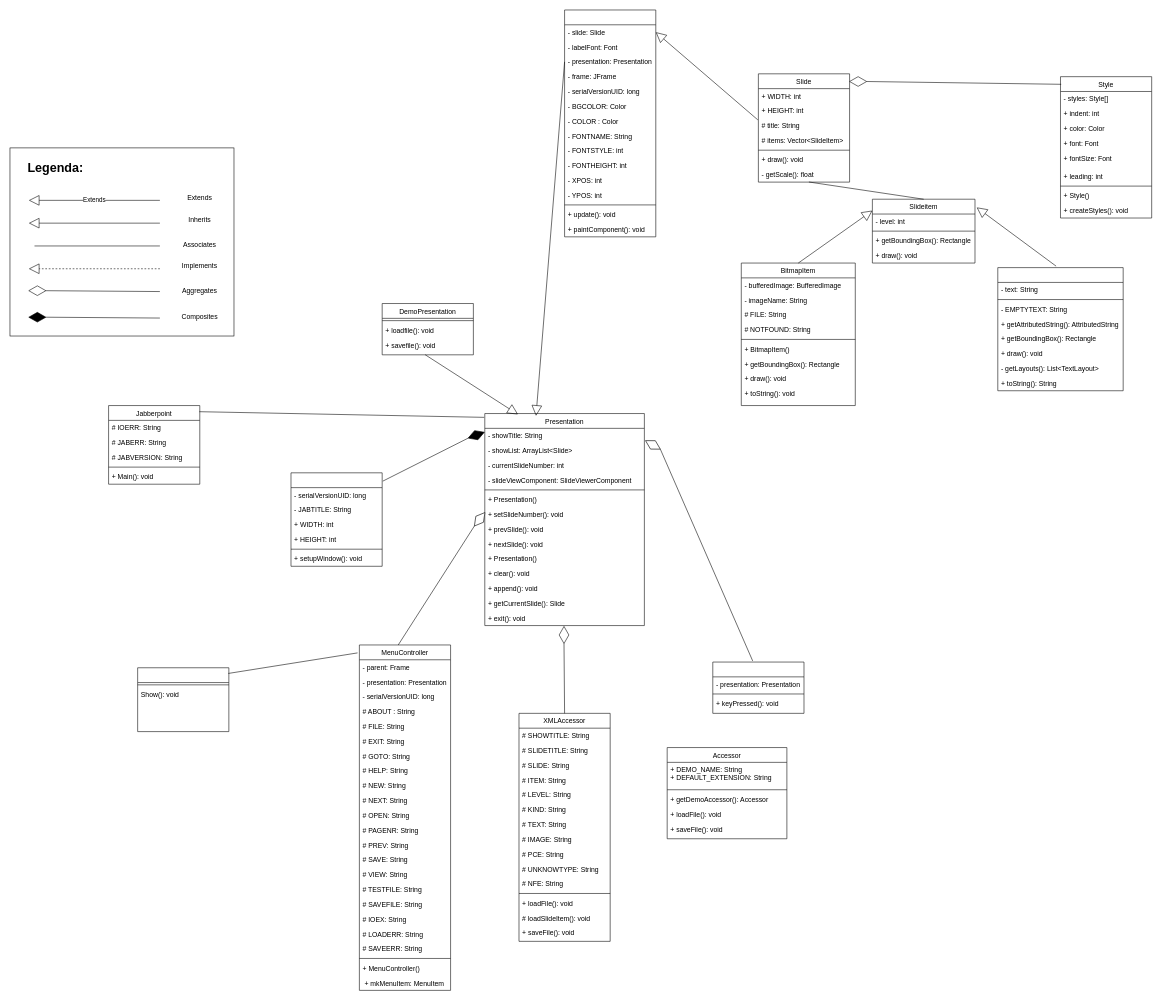
Some shapes in this 1162 by 1002 pixel diagram are drawn without their labels. The shapes that lost their labels are listed below. From the top down, each one's box as (x1, y1, x2, y2) in pixels, then its label:
(564, 9, 656, 237): SlideViewerComponent
(997, 267, 1123, 391): TextItem
(290, 472, 382, 566): SliderViewerFrame
(137, 667, 229, 732): AboutBox
(712, 661, 804, 713): KeyController
